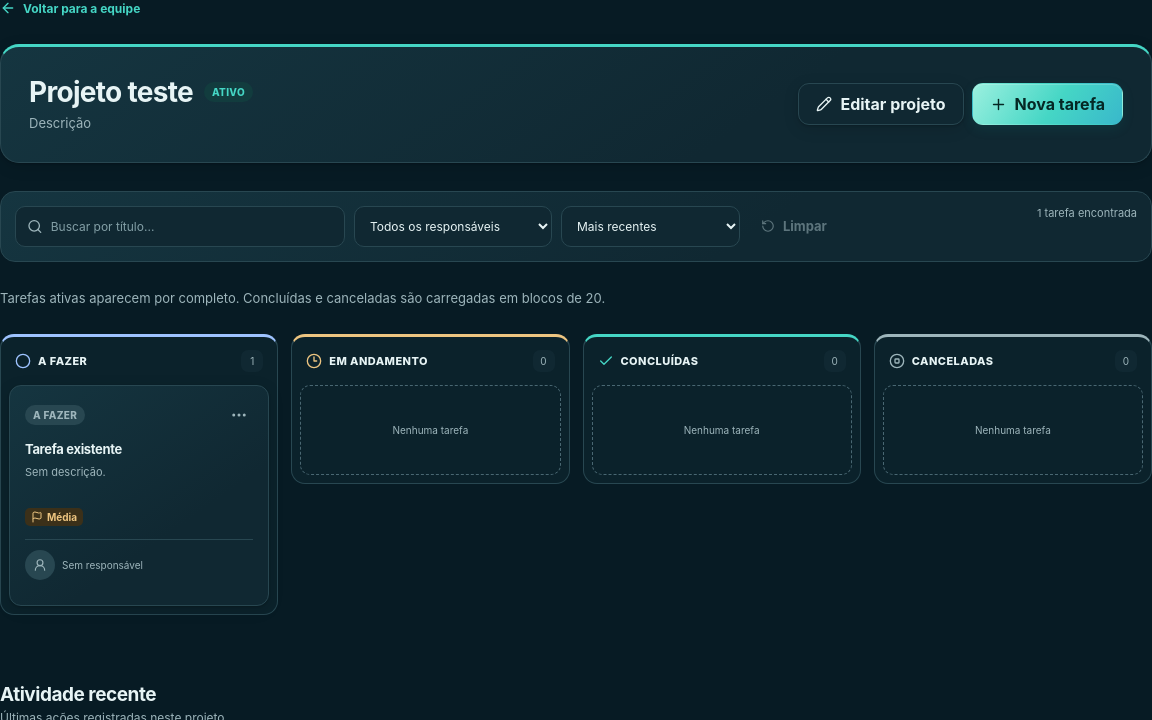
Test: ProjectPage task queries › limpa os filtros depois de criar uma tarefa para exibi-la no quadro
Expected: the heading "Tarefa existente" is shown, [25,440,122,456]
In the field named "Buscar tarefas por título": (192, 226) [51,206,333,246], type "não encontrada"
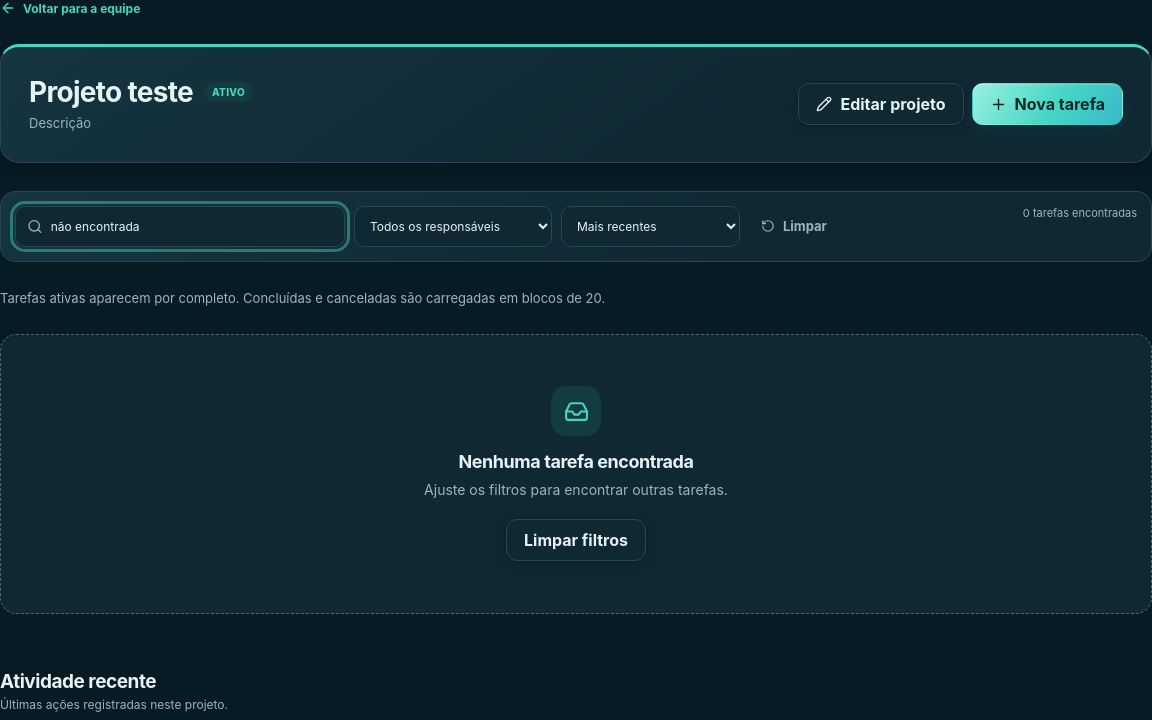
Now the heading "Nenhuma tarefa encontrada" is shown, box [458,451,693,472]
Click the button "Nova tarefa": click(1047, 104) [972,83,1123,125]
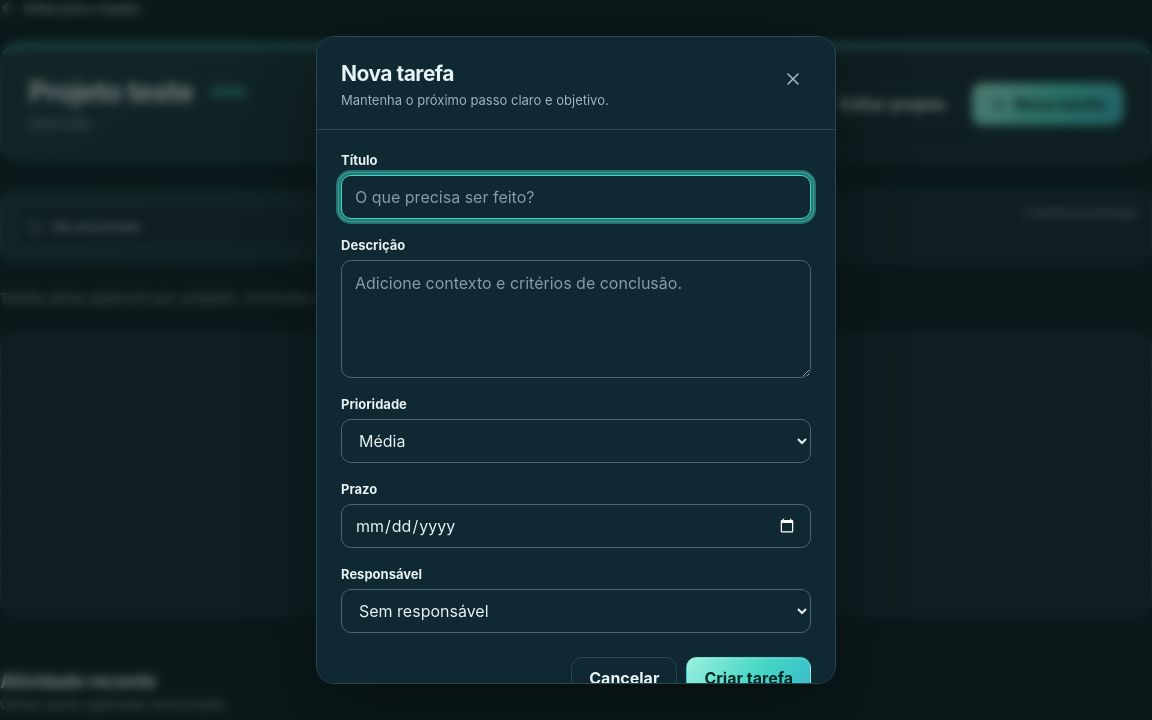
In the field labelled "Título": (576, 196) [341,174,811,218], type "Tarefa recém-criada"
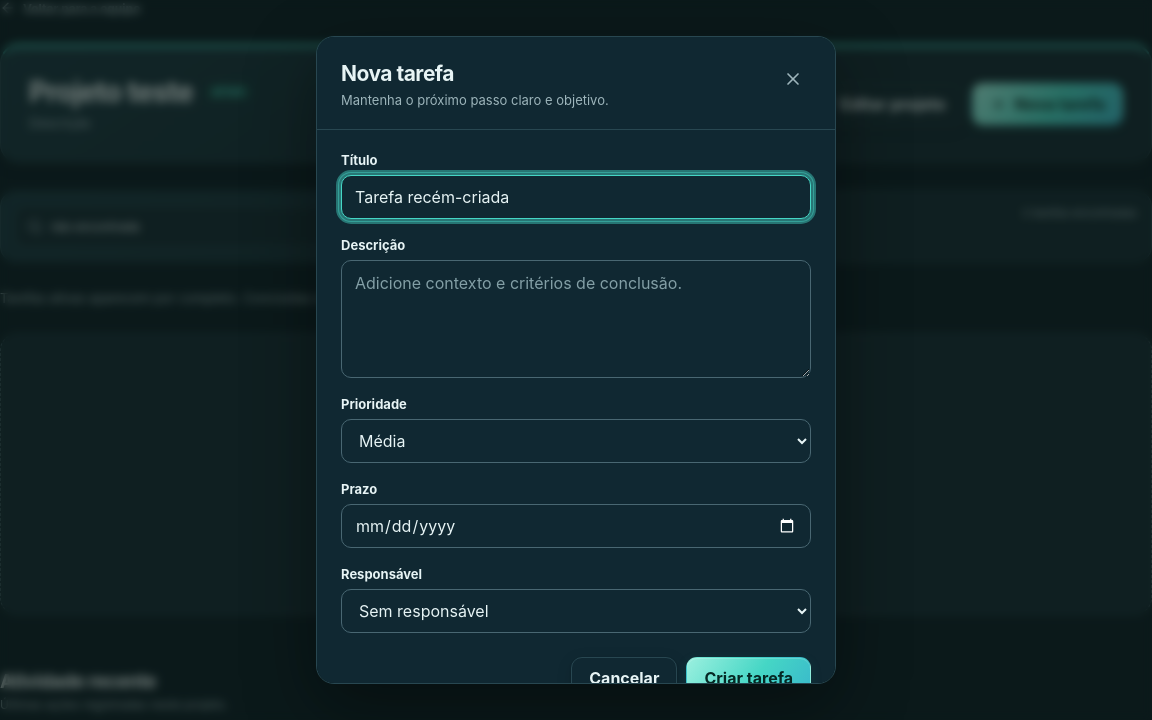
Click the button "Criar tarefa": click(749, 678) [686,656,811,698]
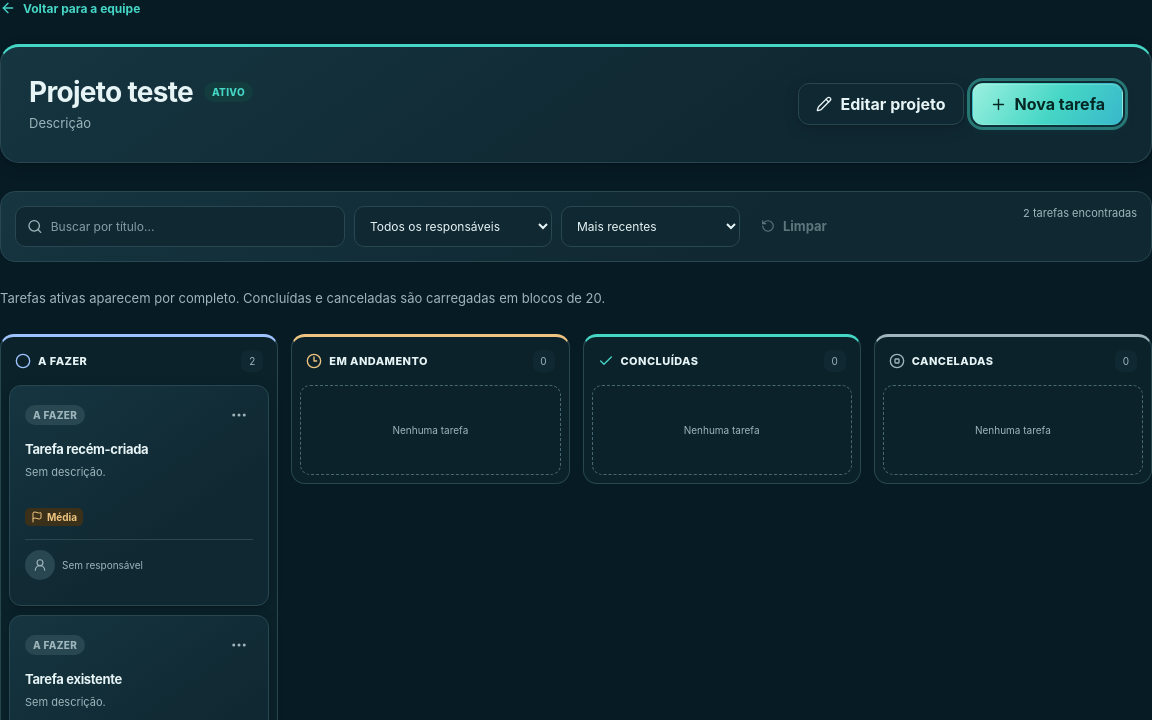
Now the heading "Tarefa recém-criada" is shown, box [25,440,148,456]
Now the field named "Buscar tarefas por título" is empty, box [51,206,333,246]
